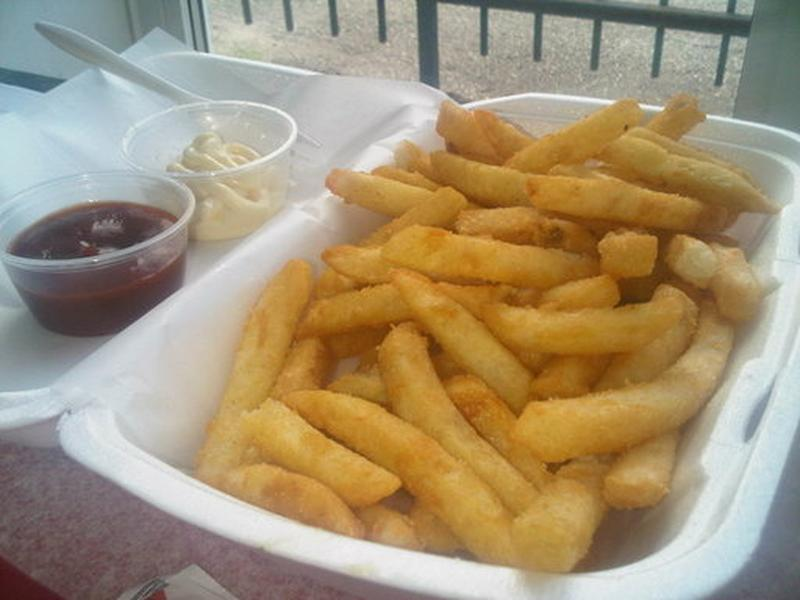french_fries: (278, 45, 755, 600)
